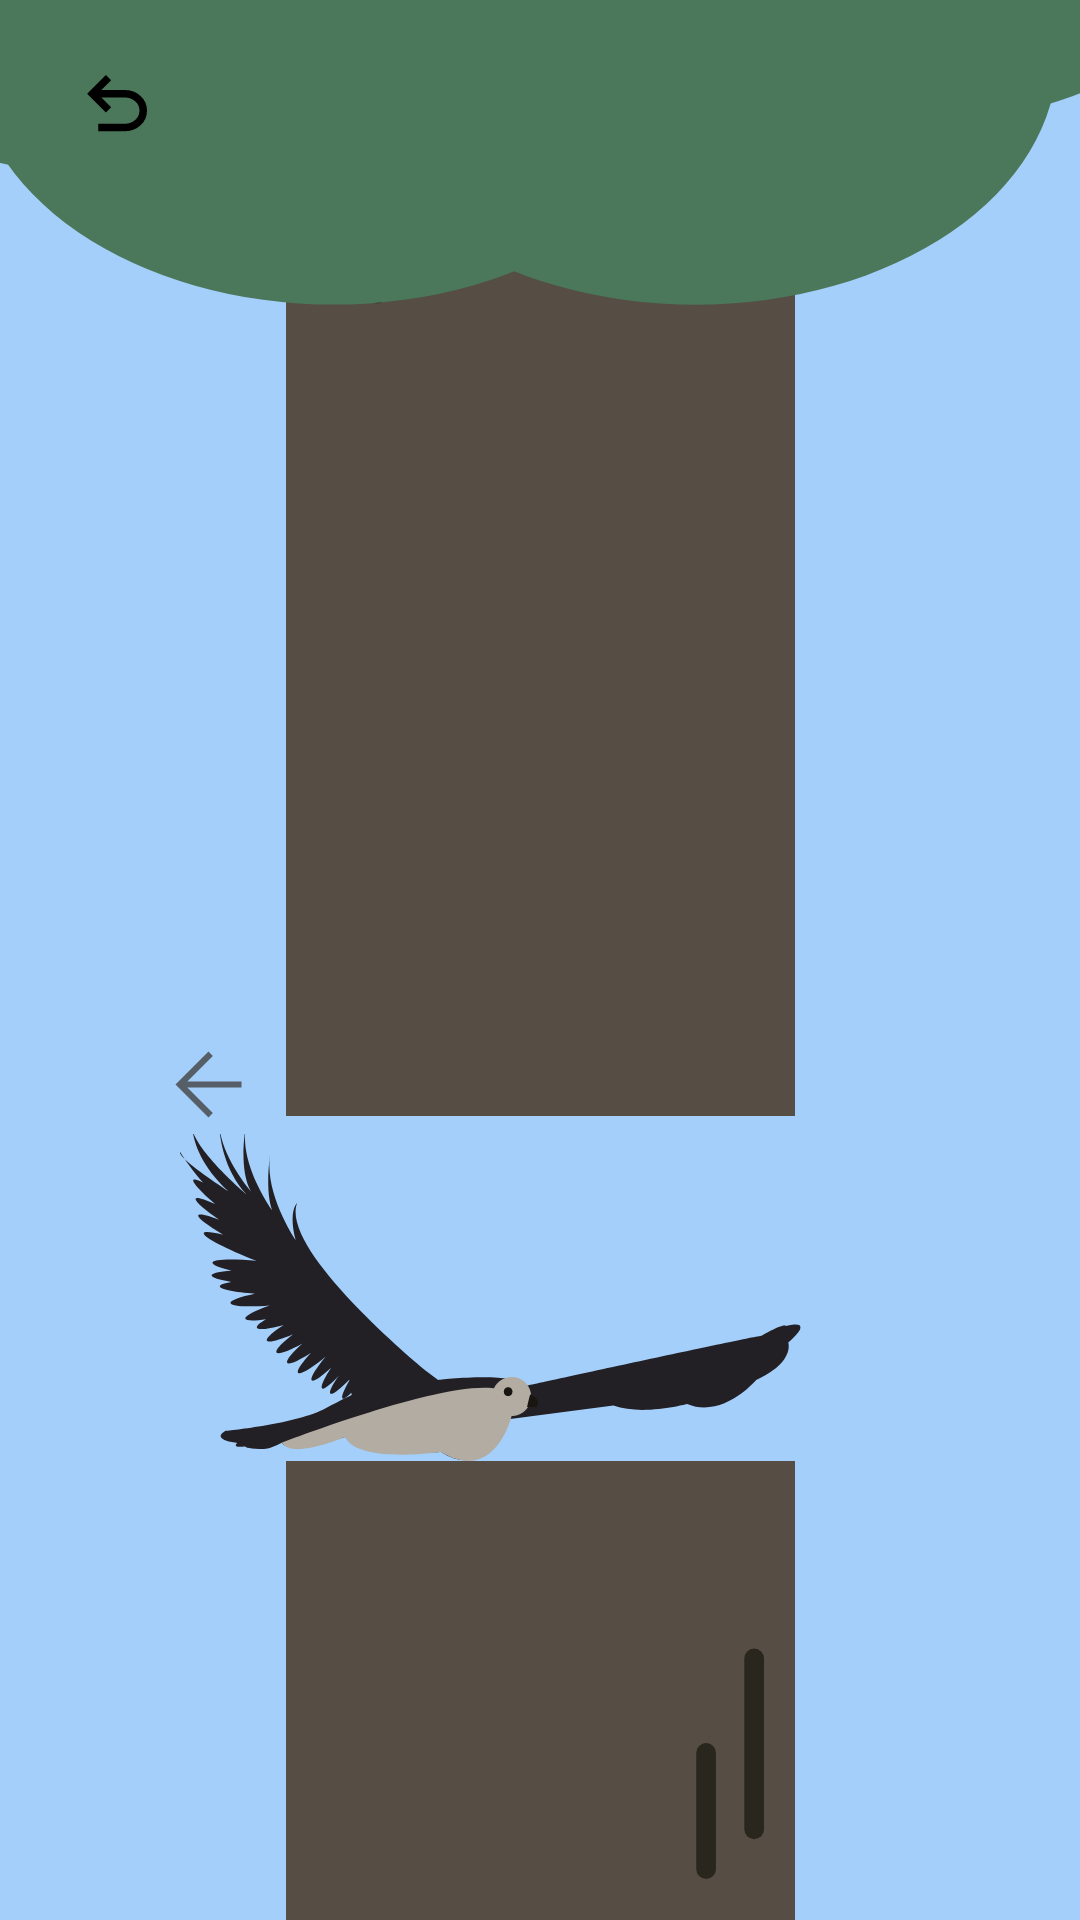

Named icons in this screenshot (1080w x 1920h) and their centers, (x=x, y=y):
undo: (x=117, y=103)
